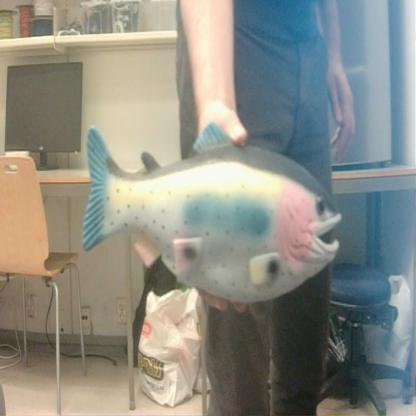rubberfish: (77, 121, 345, 307)
